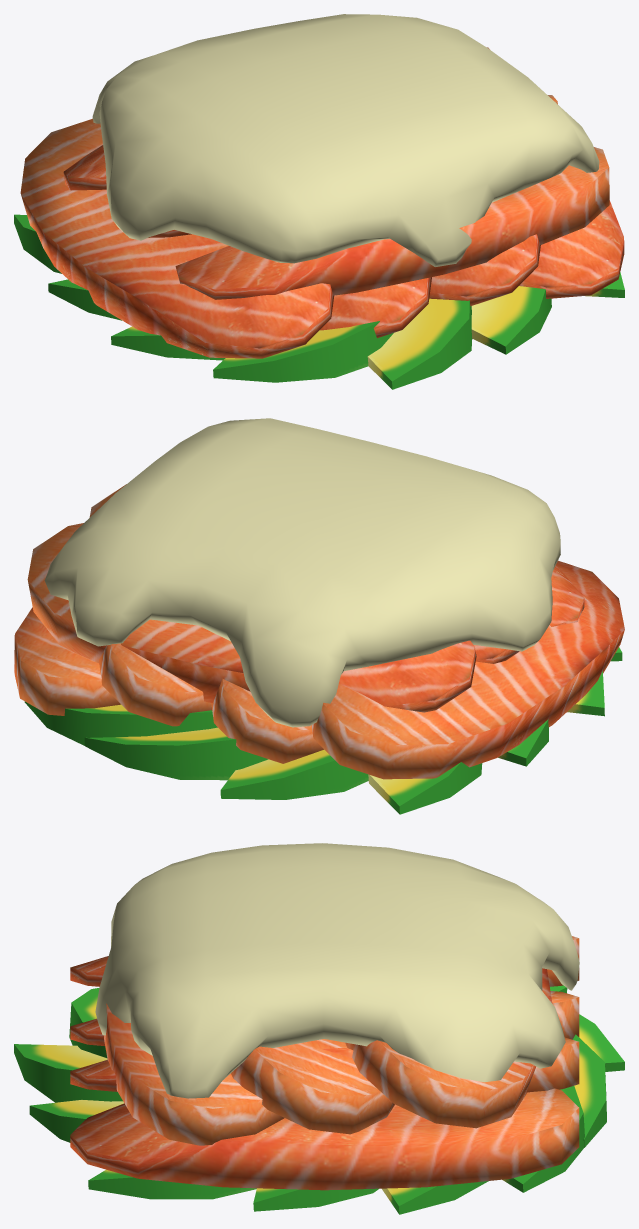
The model's file is salmon.glb.
3 views of the same model, one above another, from view 1: azimuth 30°, elevation 25°; view 2: azimuth 150°, elevation 25°; view 3: azimuth 270°, elevation 25° (orthographic). The views are drawn at different scales.
Visible parts, largest first — view 1: cream, salmon, avocados; view 2: cream, salmon, avocados; view 3: cream, salmon, avocados.
Boxes of the visible parts, x1,y1,x2,y2 form: cream: [92, 14, 599, 266]; salmon: [20, 47, 624, 358]; avocados: [14, 214, 624, 389]; cream: [44, 418, 560, 727]; salmon: [14, 484, 624, 779]; avocados: [24, 647, 622, 814]; cream: [95, 843, 579, 1098]; salmon: [70, 936, 579, 1190]; avocados: [14, 985, 624, 1214].
Bounding box in the file's own units: 1.87 × 0.6821 × 1.96.
2 materials, 1 textured.
